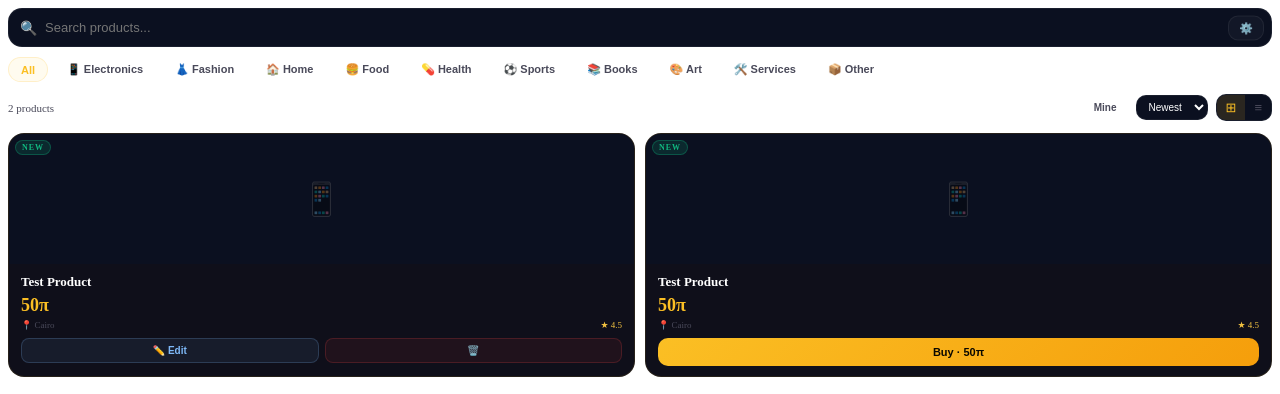
Test: ProductsTab › Mine filter يعرض منتجات اليوزر بس
Click the button "Mine". click: point(1105, 108)
box: x1=1083 y1=96 x2=1128 y2=119
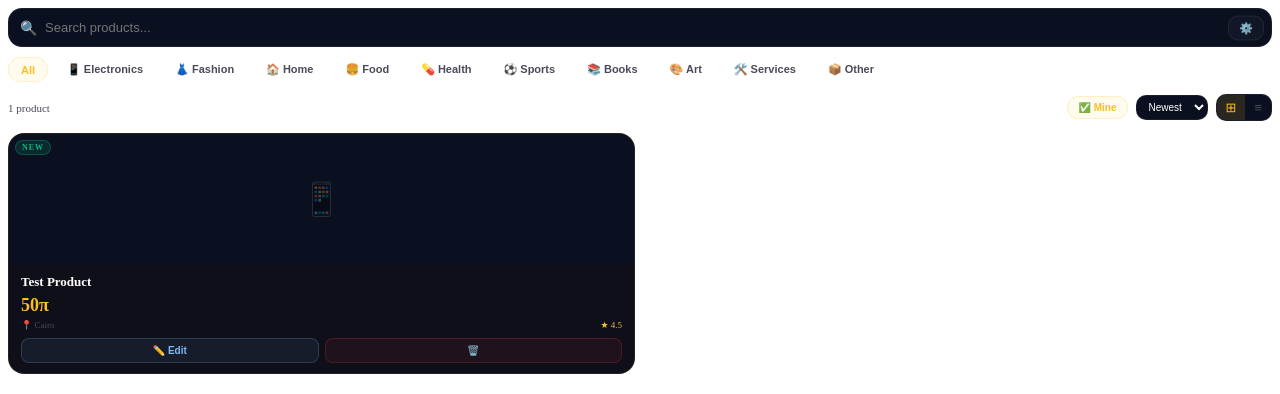
Expected: the element with test id "card-p1" is shown, x1=8 y1=133 x2=635 y2=374
Expected: the element with test id "card-p2" is gone
